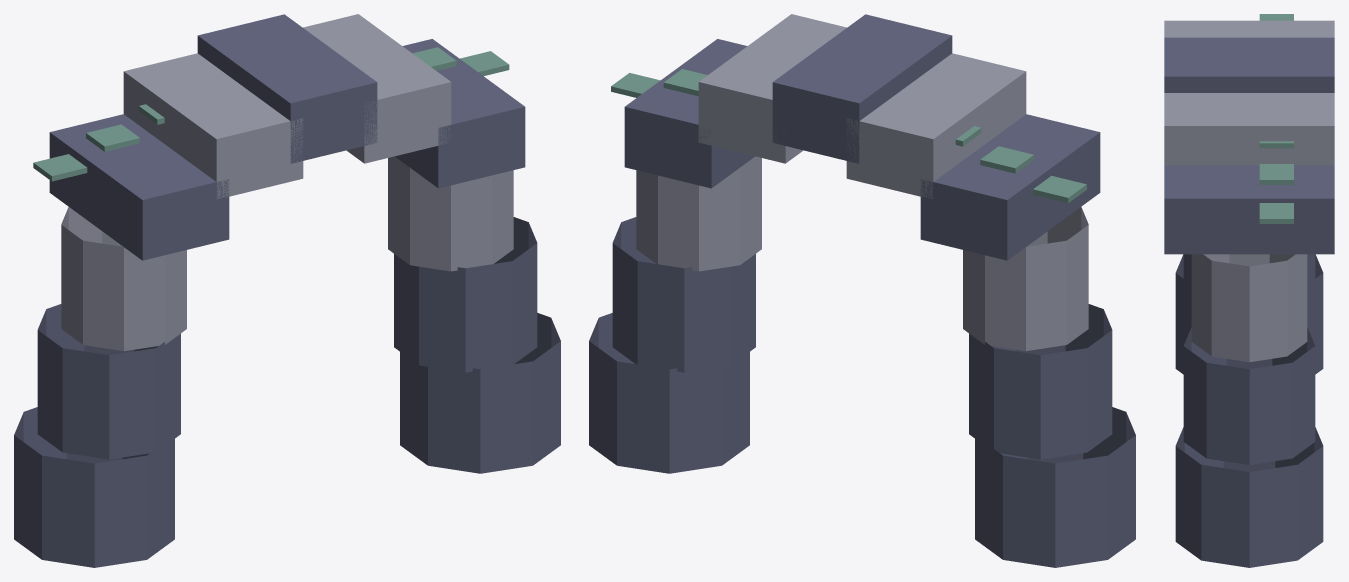
File: moonfall_moss_rock_arch_lod0.gltf
3 views of the same model, side by side, from view 1: azimuth 30°, elevation 25°; view 2: azimuth 150°, elevation 25°; view 3: azimuth 270°, elevation 25° (orthographic). The views are drawn at different scales.
Visible parts, largest first — view 1: moonfall_moss_rock_arch; view 2: moonfall_moss_rock_arch; view 3: moonfall_moss_rock_arch.
Boxes of the visible parts, bbox=[...] form: moonfall_moss_rock_arch: bbox=[14, 14, 560, 567]; moonfall_moss_rock_arch: bbox=[589, 14, 1135, 567]; moonfall_moss_rock_arch: bbox=[1164, 14, 1334, 567].
Bounding box in the file's own units: 8.13 × 6.35 × 2.5.
